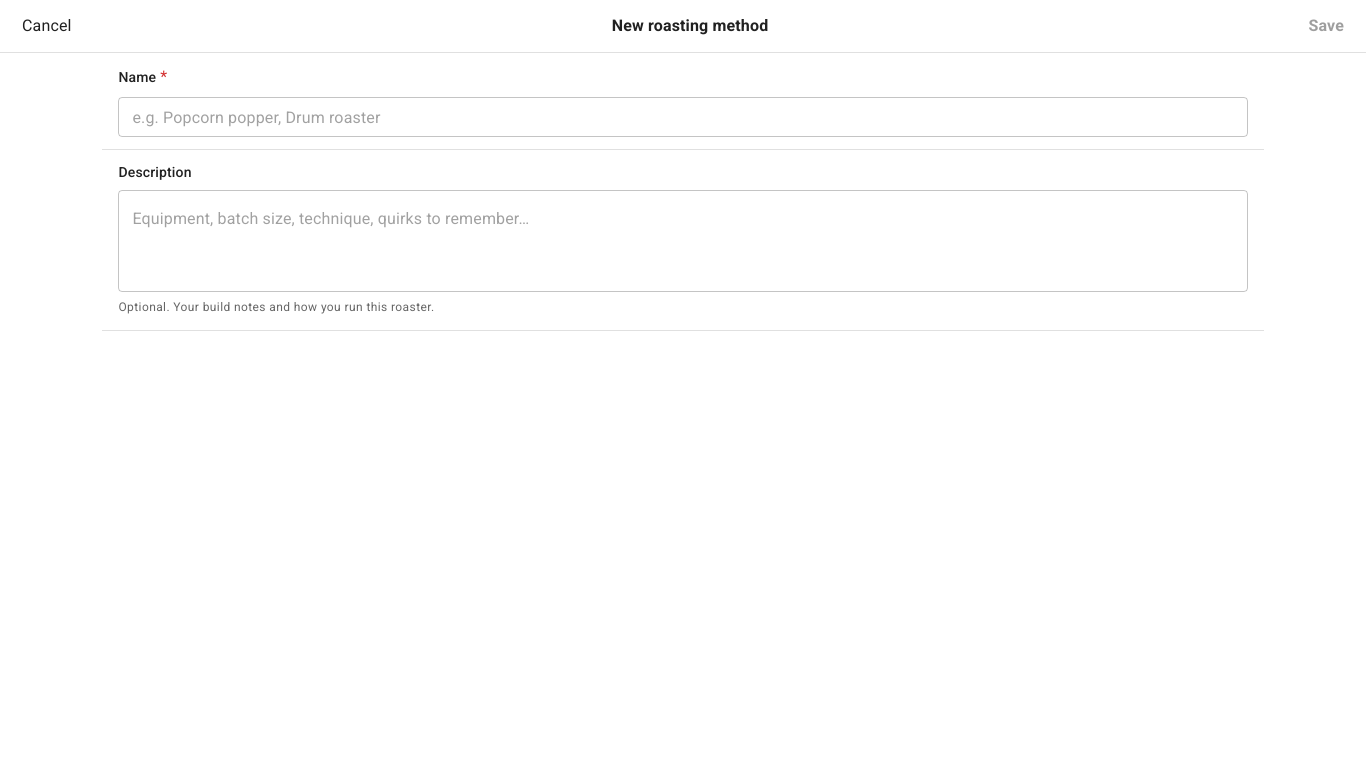
Test: RoastingMethodForm › flags a case-insensitive duplicate name and keeps Save disabled
Type "POPCORN popper" into the field with placeholder "e.g. Popcorn popper, Drum roaster" at [683, 117], box x1=118 y1=97 x2=1248 y2=137
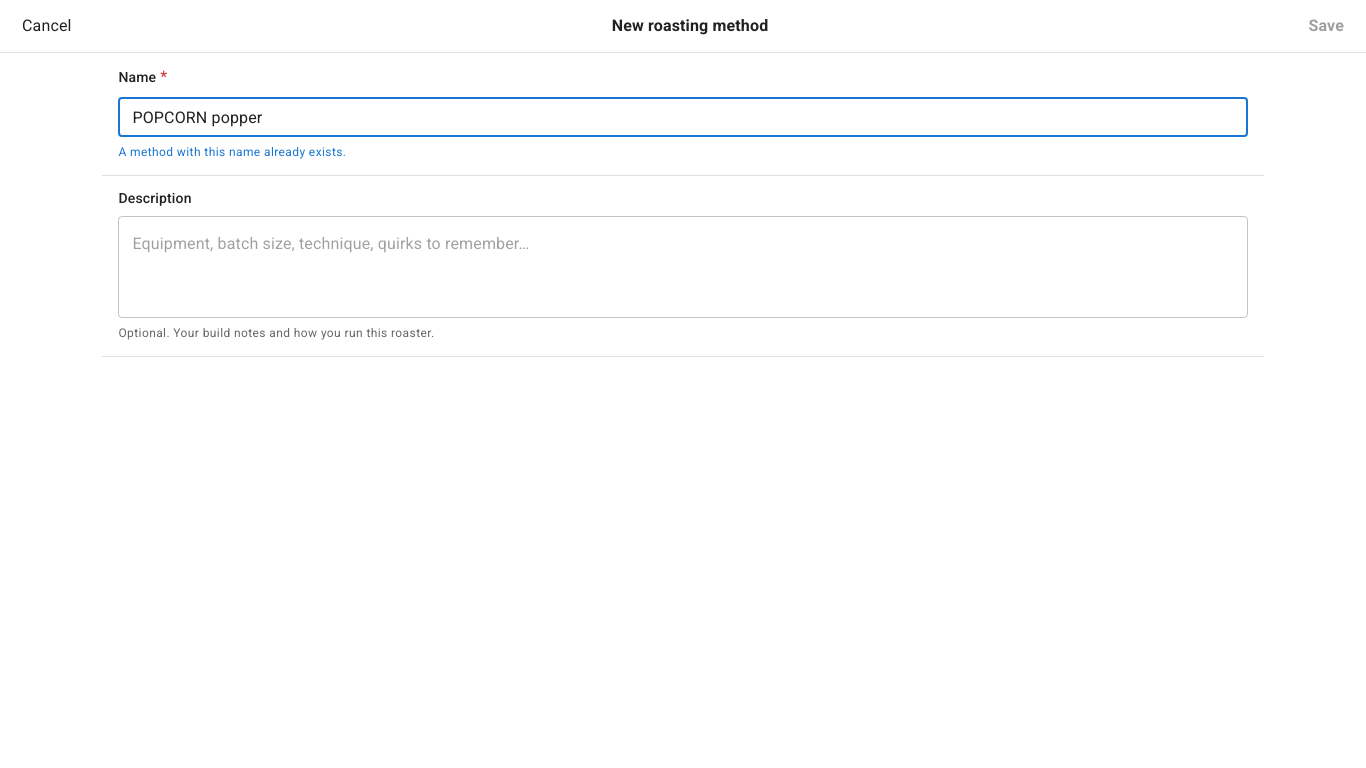
Check: the button "Save" is disabled, box x1=1302 y1=13 x2=1350 y2=39
Check: the text "A method with this name already exists." is shown, box x1=118 y1=145 x2=346 y2=159
